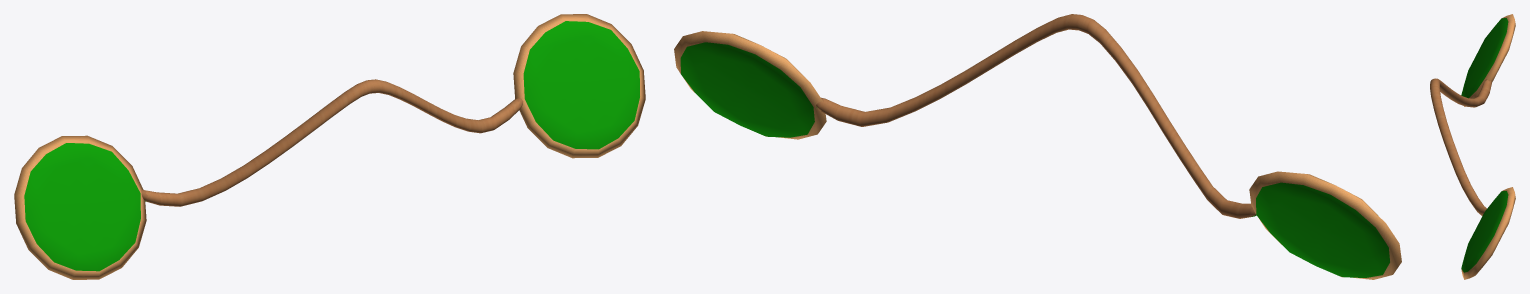
The model's file is Glasses.obj.
3 views of the same model, side by side, from view 1: azimuth 30°, elevation 25°; view 2: azimuth 150°, elevation 25°; view 3: azimuth 270°, elevation 25° (orthographic). The views are drawn at different scales.
Parts seen in each view (by area): view 1: pCylinder4; view 2: pCylinder4; view 3: pCylinder4.
Boxes of the visible parts, x1,y1,x2,y2 form: pCylinder4: [14, 14, 645, 279]; pCylinder4: [674, 14, 1401, 279]; pCylinder4: [1430, 14, 1515, 279].
Bounding box in the file's own units: 20.12 × 4.65 × 3.35.
3 materials, 3 textured.
